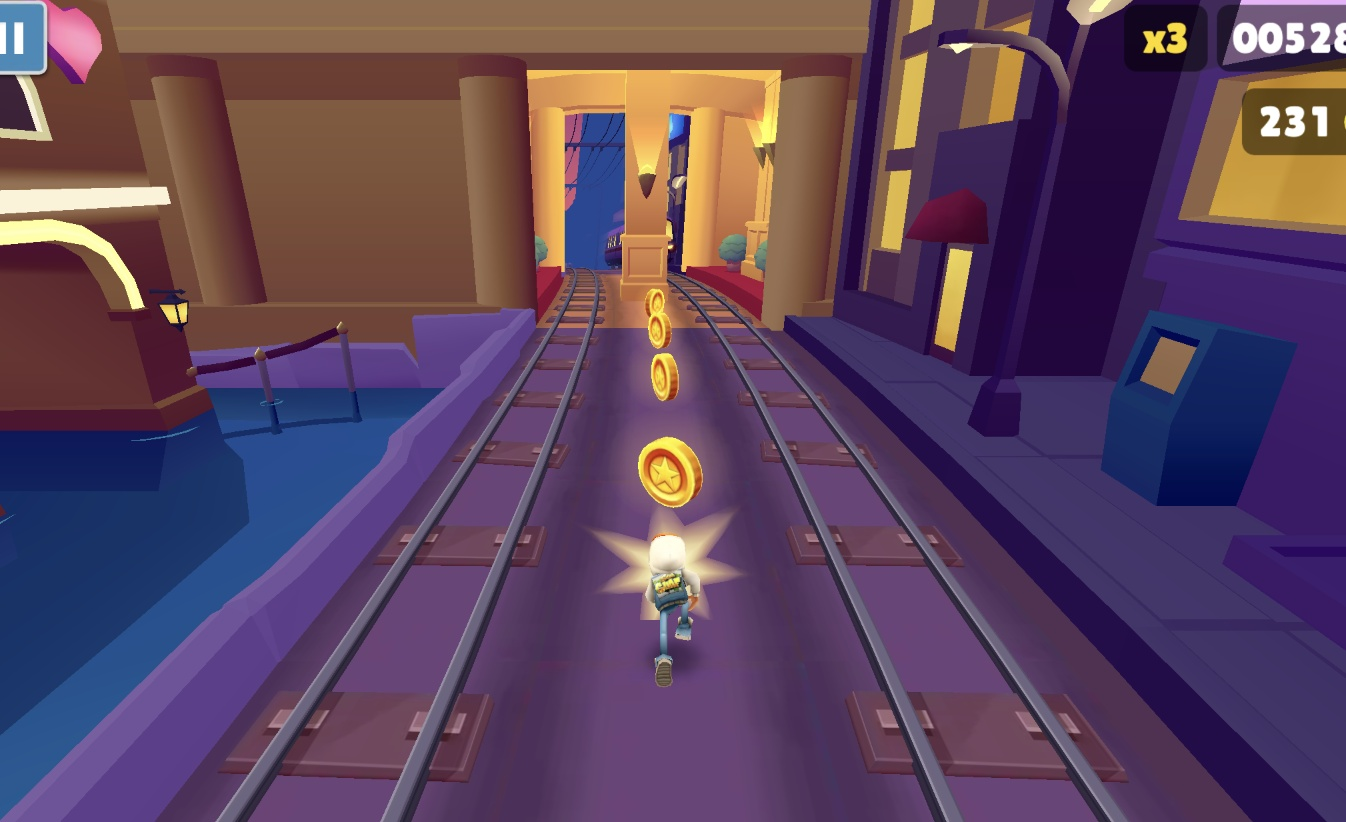pillar: (620, 68, 672, 290), (574, 186, 604, 268)
train: (670, 208, 688, 272)
